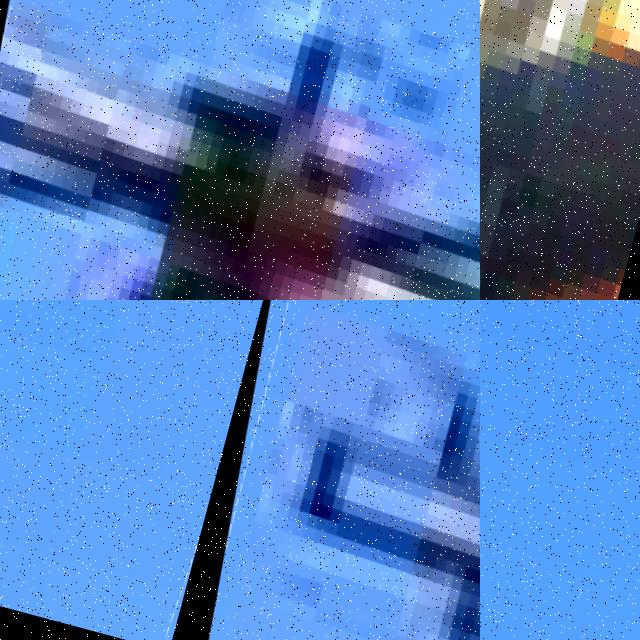0: (0, 0, 480, 300), (168, 300, 480, 640)
drone: (480, 0, 640, 300)
